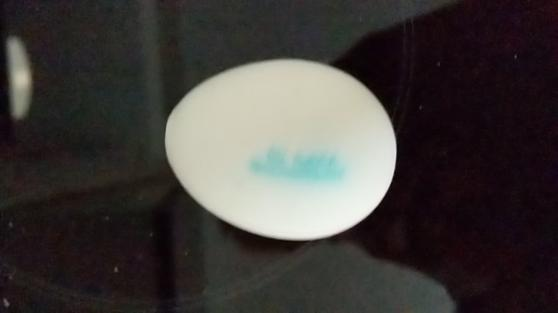egg: (163, 57, 398, 240)
